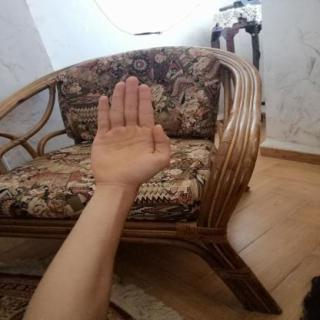SEEN: (83, 69, 177, 193)
